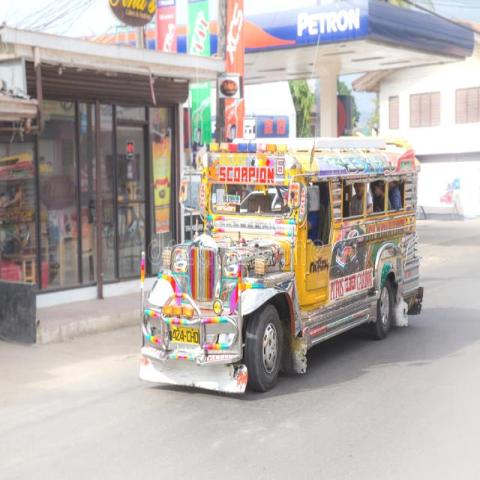jeepney: (143, 125, 431, 400)
